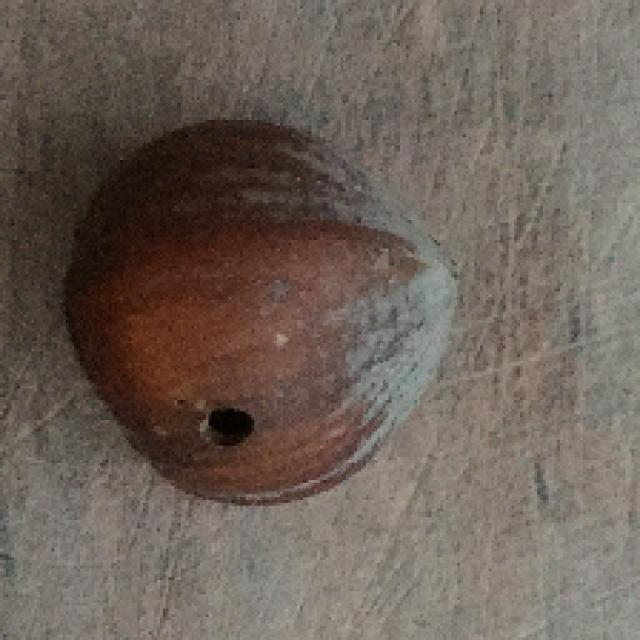damagedHazelnut: (57, 126, 454, 506)
